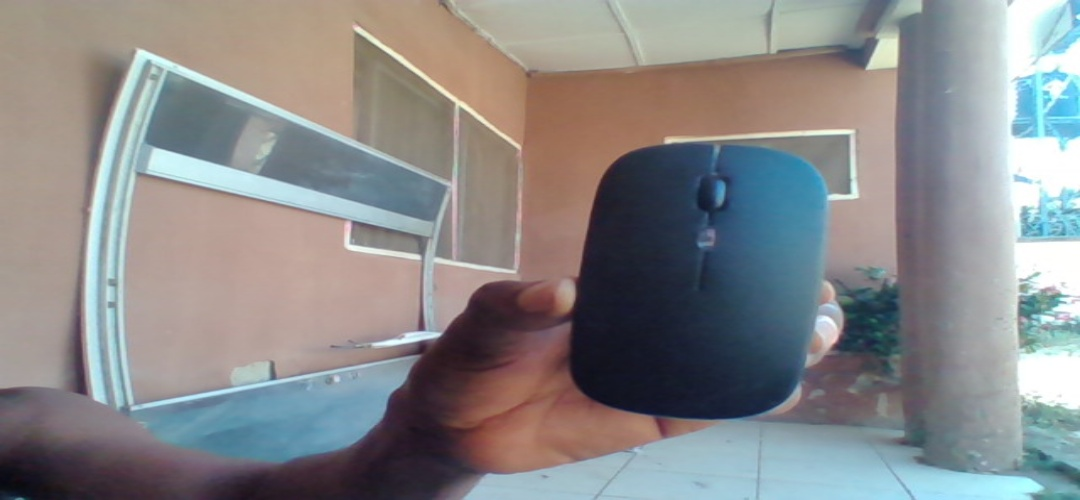wireless_mouse: (583, 134, 828, 422)
